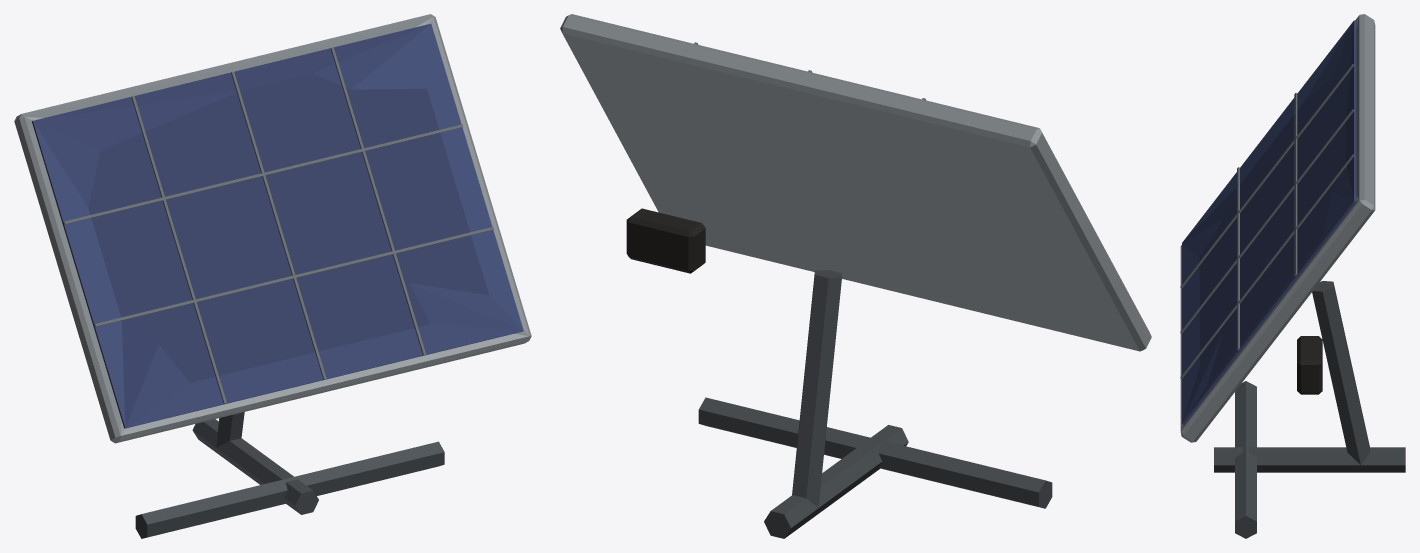
Rendered from solar_panel_malaya_100_vt_idle.glb.
3 renders of one model, left to right at view 1: azimuth 30°, elevation 25°; view 2: azimuth 150°, elevation 25°; view 3: azimuth 270°, elevation 25°, orthographic. The views are drawn at different scales.
Parts seen in each view (by area): view 1: solar_panel_malaya_100_vt_idle; view 2: solar_panel_malaya_100_vt_idle; view 3: solar_panel_malaya_100_vt_idle.
Part boxes in pixels (x1,y1,x2,y2): solar_panel_malaya_100_vt_idle: (14,14,531,538); solar_panel_malaya_100_vt_idle: (560,14,1151,538); solar_panel_malaya_100_vt_idle: (1180,14,1405,538).
Bounding box in the file's own units: 0.7 × 0.63 × 0.3528.
1 material, 1 textured.
